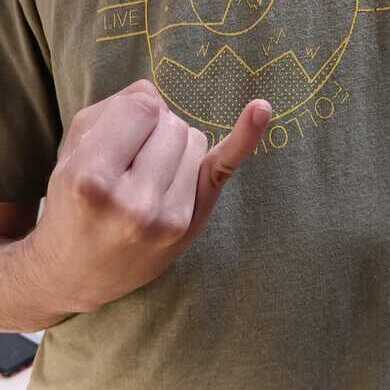I: (41, 78, 274, 311)
